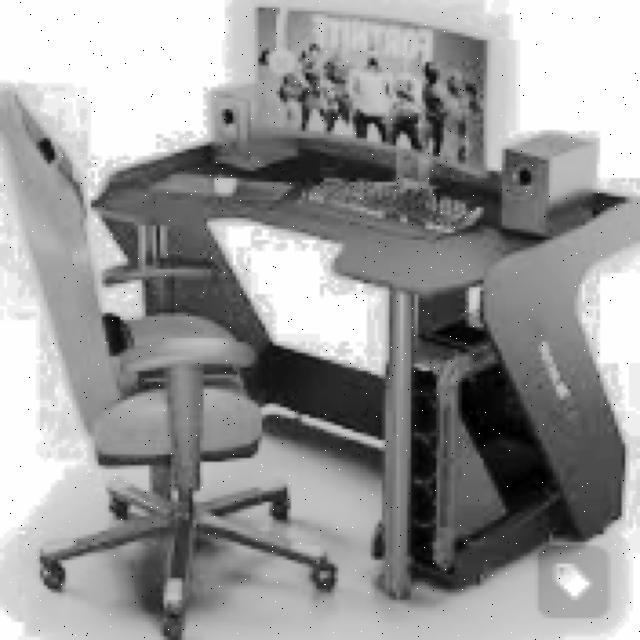book: (0, 87, 342, 640)
table: (91, 131, 640, 596)
